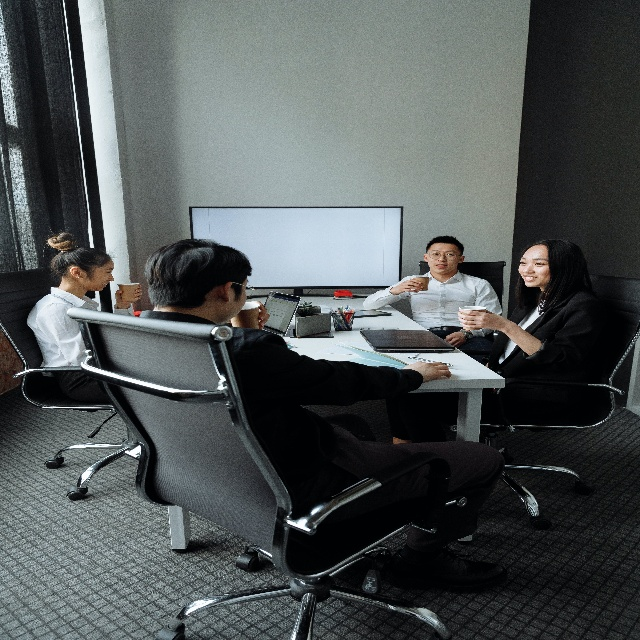Gafas: (231, 280, 255, 297), (427, 251, 461, 261)
Sin_guantes: (402, 359, 452, 385), (456, 306, 500, 333), (113, 284, 144, 308), (250, 299, 270, 331), (398, 279, 423, 295)
